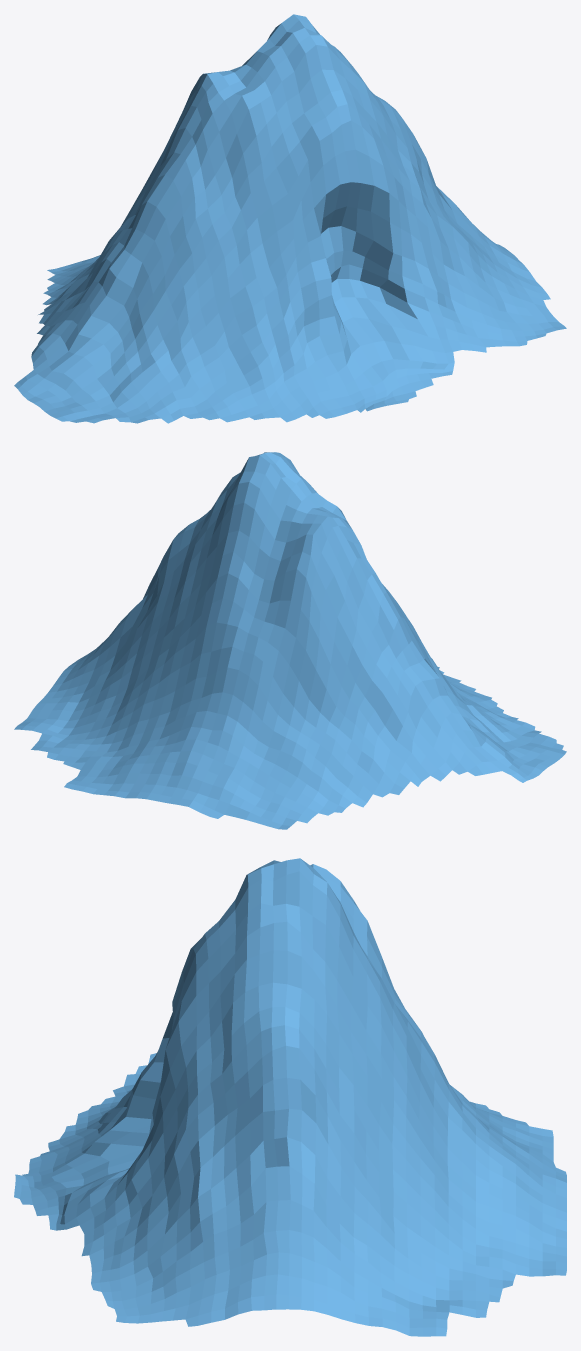
The model's file is Ice Mountain.fbx.
3 renders of one model, top to bottom at view 1: azimuth 30°, elevation 25°; view 2: azimuth 150°, elevation 25°; view 3: azimuth 270°, elevation 25°, orthographic. The views are drawn at different scales.
Visible parts, largest first — view 1: Landscape.001; view 2: Landscape.001; view 3: Landscape.001.
Part boxes in pixels (x1,y1,x2,y2): Landscape.001: [14, 14, 566, 423]; Landscape.001: [14, 452, 566, 829]; Landscape.001: [14, 858, 566, 1336].
Size of the model in its own units: 1987 by 1179 by 1638.
